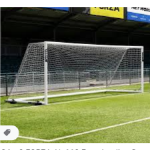goals: (7, 39, 145, 105)
